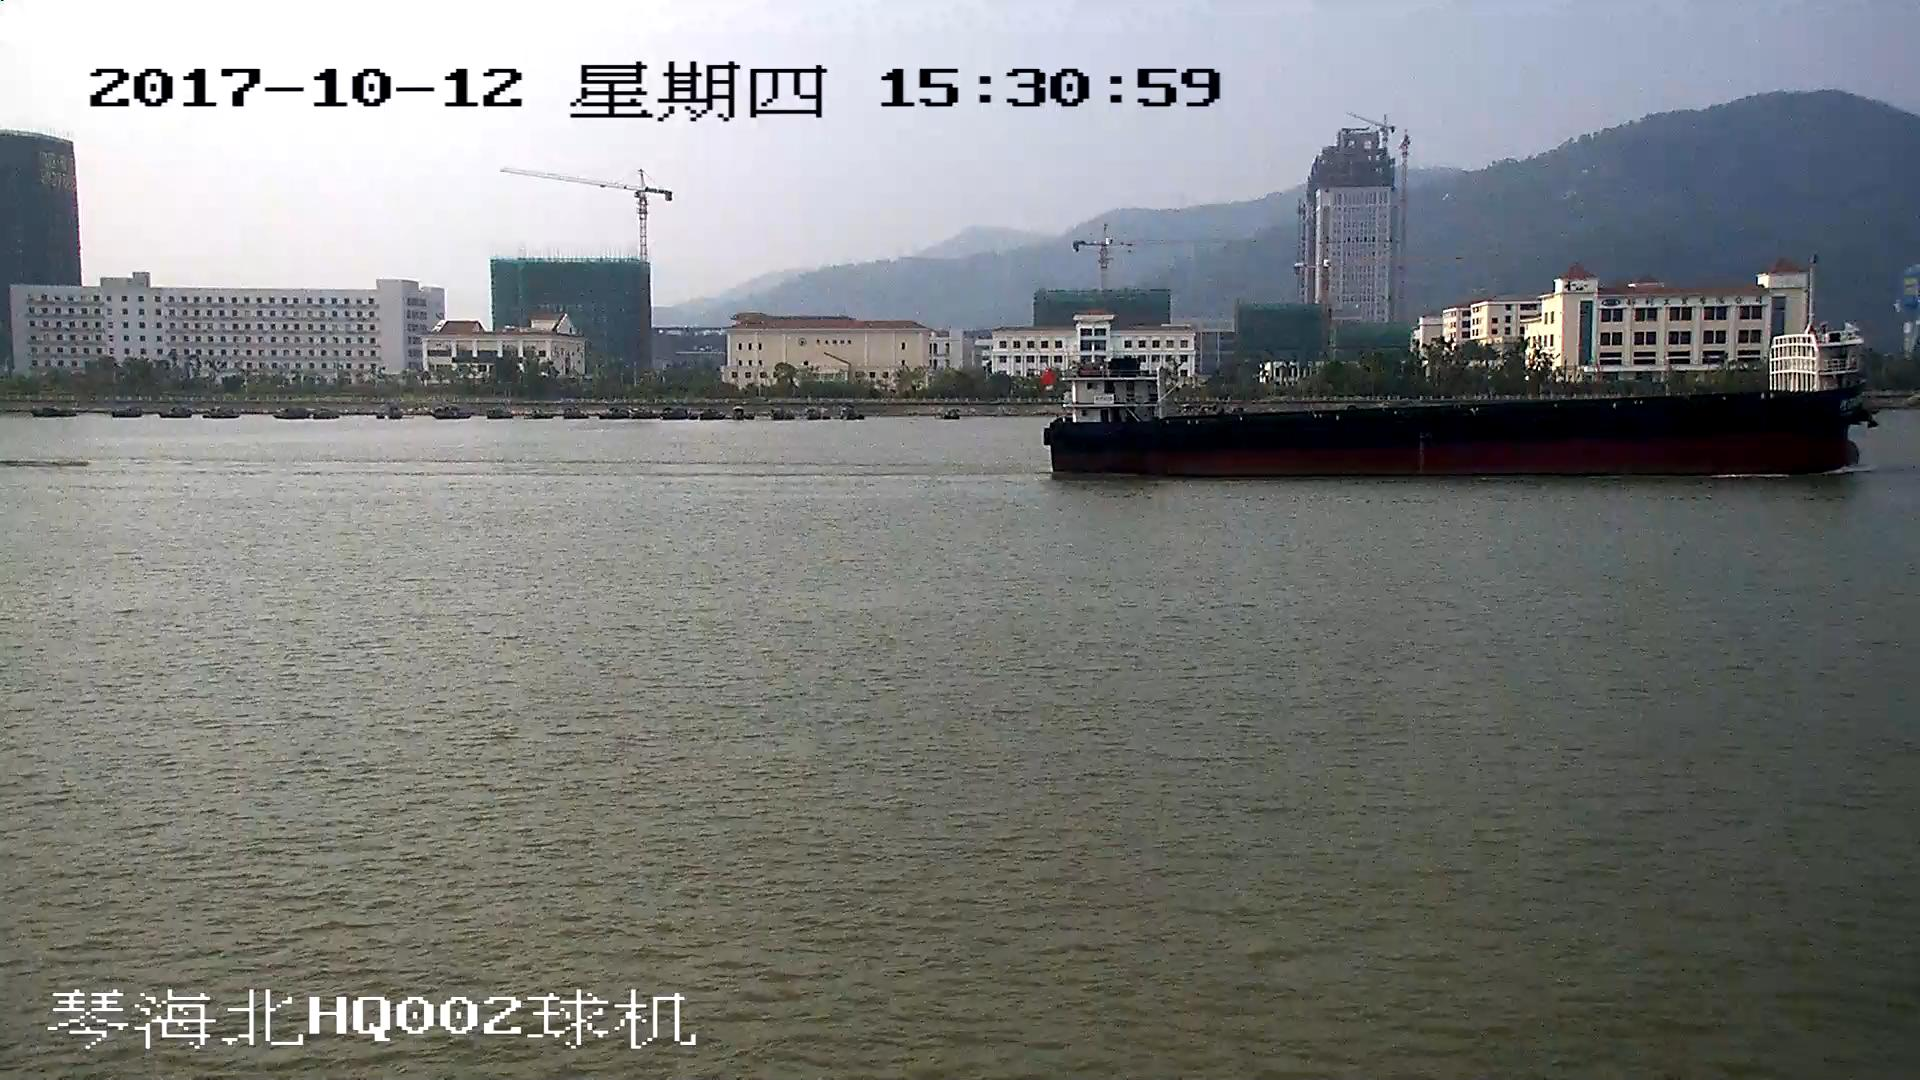general cargo ship: (1049, 310, 1874, 479)
